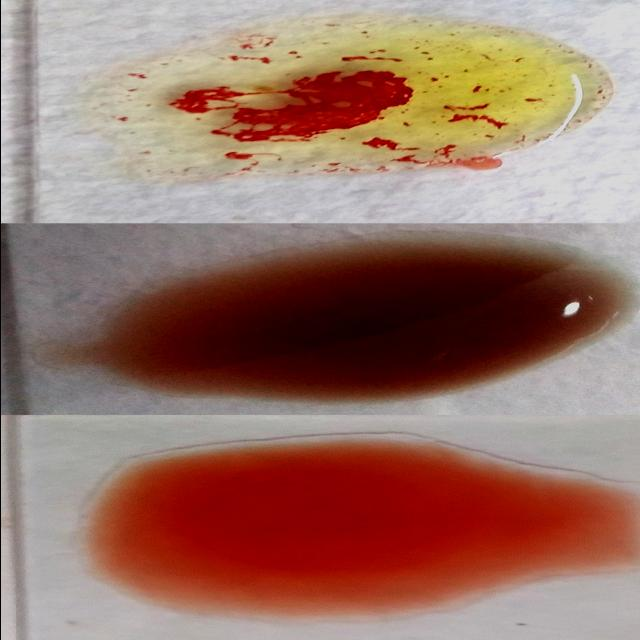B: (97, 25, 613, 176)
